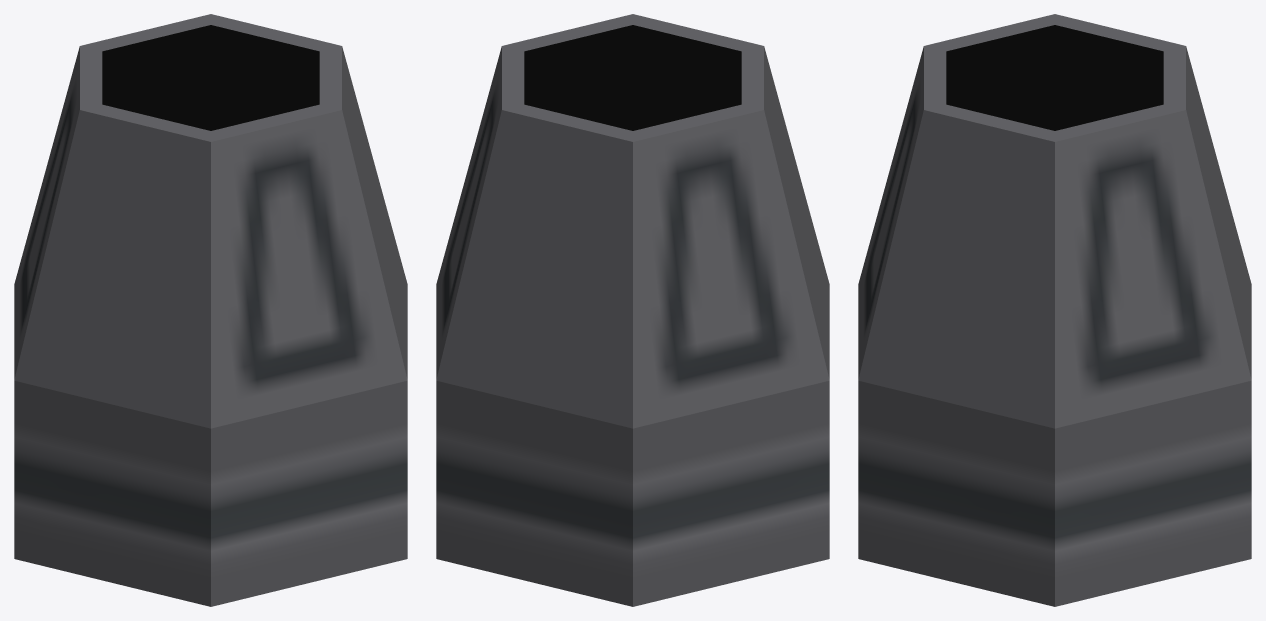
File: SM_Prop_Laser_01.fbx
3 renders of one model, left to right at view 1: azimuth 30°, elevation 25°; view 2: azimuth 150°, elevation 25°; view 3: azimuth 270°, elevation 25°, orthographic.
Visible parts, largest first — view 1: SM_Prop_Laser_01; view 2: SM_Prop_Laser_01; view 3: SM_Prop_Laser_01.
Boxes of the visible parts, bbox=[...] form: SM_Prop_Laser_01: bbox=[14, 14, 407, 606]; SM_Prop_Laser_01: bbox=[436, 14, 829, 606]; SM_Prop_Laser_01: bbox=[858, 14, 1251, 606].
Bounding box in the file's own units: 8.07 × 8.48 × 6.99.
